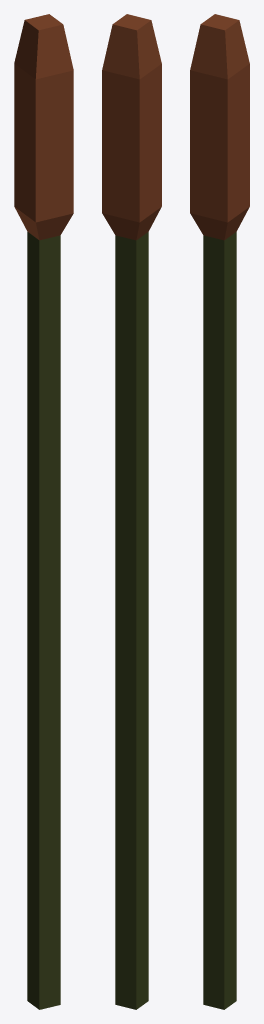
The model's file is Reed Single.fbx.
3 views of the same model, side by side, from view 1: azimuth 30°, elevation 25°; view 2: azimuth 150°, elevation 25°; view 3: azimuth 330°, elevation 25° (orthographic).
Visible parts, largest first — view 1: Reed Single; view 2: Reed Single; view 3: Reed Single.
Boxes of the visible parts, x1,y1,x2,y2 form: Reed Single: (14, 14, 73, 1009); Reed Single: (102, 14, 161, 1009); Reed Single: (190, 14, 249, 1009).
Bounding box in the file's own units: 0.1124 × 2.77 × 0.1124.
